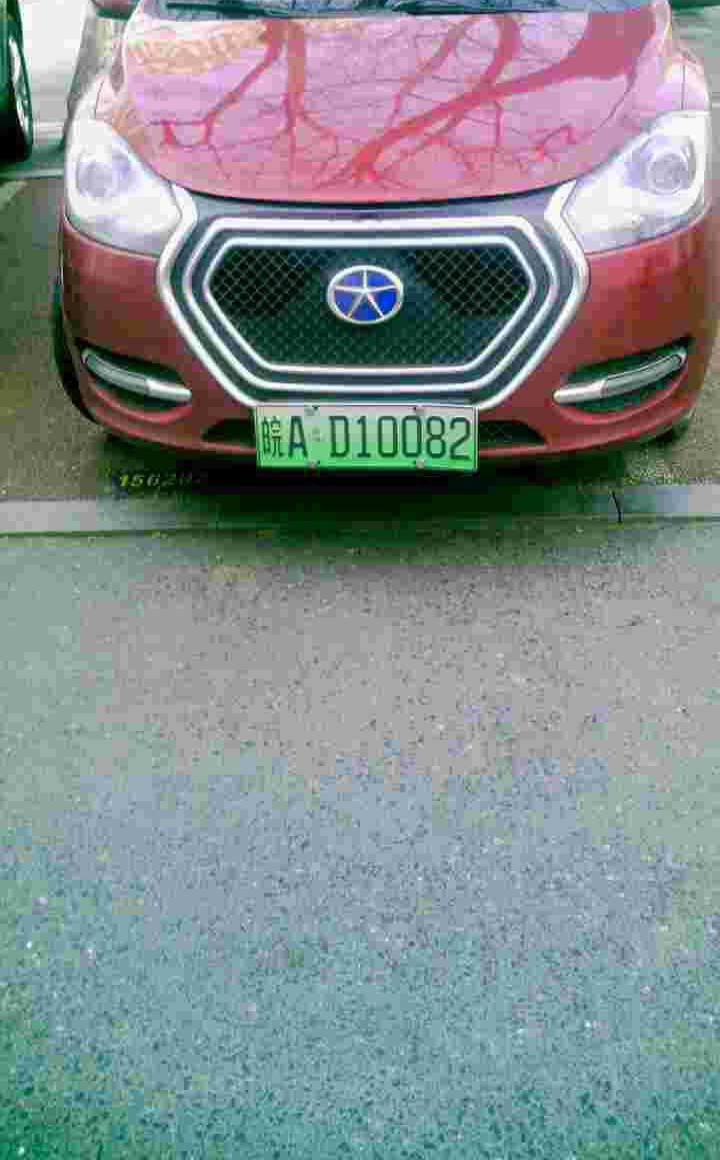car_id: (253, 402, 478, 470)
